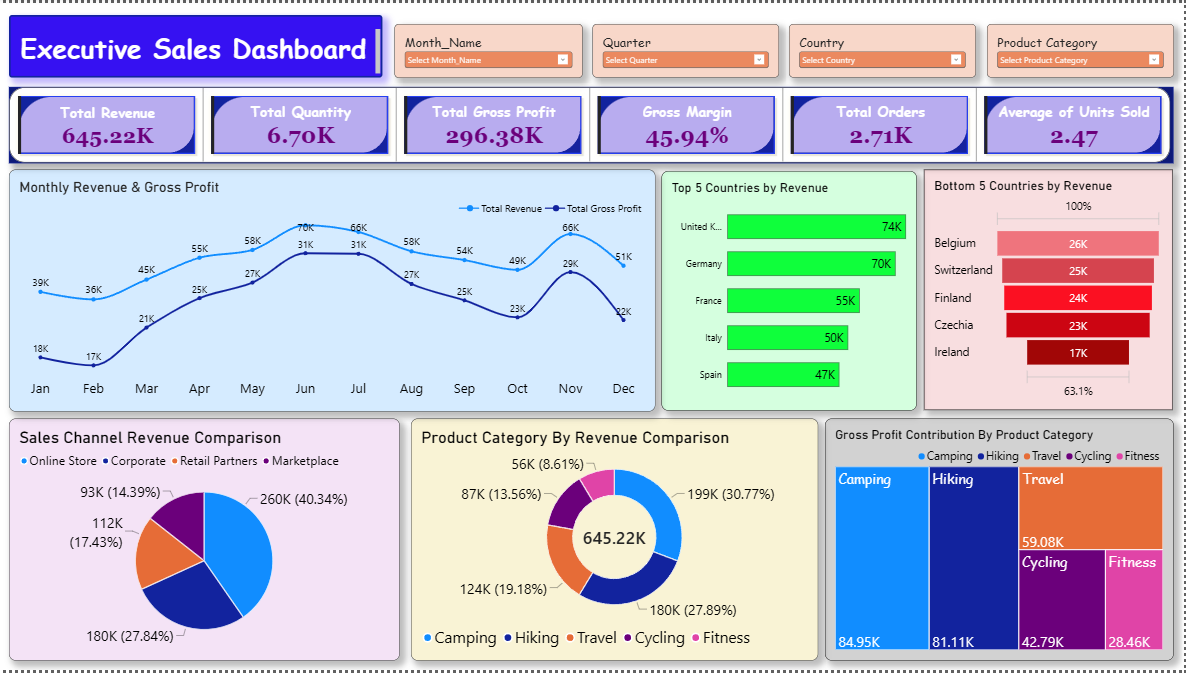

Layout of this report page (visuals, bound fields, positions):
{"tool":"powerbi","page":{"name":"Page 1","canvas":[1920,1080],"ordinal":0},"visuals":[{"type":"cardVisual","fields":{"Data":["All_Measures.Total Revenue","All_Measures.Total Quantity","All_Measures.Total Gross Profit","All_Measures.Gross Margin","All_Measures.Total Orders","Avg(Data.Units Sold)"]},"box":[15,135,1885,123.3],"z":0},{"type":"textbox","box":[14.2,18.9,604.8,101.6],"z":1000},{"type":"lineChart","title":"Monthly Revenue & Gross Profit","fields":{"Category":["Calender_Table.Month_Name"],"Y":["All_Measures.Total Revenue"],"Y2":["All_Measures.Total Gross Profit"]},"box":[15,270,1046.7,391.7],"z":2000},{"type":"listSlicer","fields":{"Values":["Calender_Table.Month_Name"]},"box":[637.9,33.1,304.8,87.4],"z":3000},{"type":"barChart","title":"Top 5 Countries by Revenue","fields":{"Category":["Data.Country"],"Y":["Sum(Data.Revenue)"]},"box":[1071.7,271.7,413.3,388.2],"z":3000},{"type":"listSlicer","fields":{"Values":["Calender_Table.Quarter"]},"box":[958,33.1,302.3,86.8],"z":4000},{"type":"funnel","title":"Bottom 5 Countries by Revenue","fields":{"Category":["Data.Country"],"Y":["Sum(Data.Revenue)"]},"box":[1497.5,270,402.5,389.3],"z":4000},{"type":"listSlicer","fields":{"Values":["Data.Product Category"]},"box":[1596.9,33.1,302.7,86.8],"z":5000},{"type":"treemap","title":"Gross Profit Contribution By Product Category","fields":{"Group":["Data.Product Category"],"Values":["All_Measures.Total Gross Profit"]},"box":[1335.4,671.7,564.6,391.7],"z":6000},{"type":"listSlicer","fields":{"Values":["Data.Country"]},"box":[1277.3,33.1,302.7,86.8],"z":7000},{"type":"pieChart","title":"Sales Channel Revenue Comparison","fields":{"Category":["Data.Sales Channel"],"Y":["Sum(Data.Revenue)"]},"box":[15,671.7,632.6,391.7],"z":9000},{"type":"donutChart","title":"Product Category By Revenue Comparison","fields":{"Category":["Data.Product Category"],"Y":["Sum(Data.Revenue)"]},"box":[666.9,671.7,659.1,391.7],"z":10000}]}

Visuals, with their boxes in screenshot pixels (x1, y1, x2, y2), scaled from the page's 1920x1080 canvas onto the 1186x673 screenshot:
cardVisual - All_Measures.Total Revenue x All_Measures.Total Quantity: select_region(9, 84, 1174, 161)
textbox: select_region(9, 12, 382, 75)
"Monthly Revenue & Gross Profit" lineChart: select_region(9, 168, 656, 412)
listSlicer - Calender_Table.Month_Name: select_region(394, 21, 582, 75)
"Top 5 Countries by Revenue" barChart: select_region(662, 169, 917, 411)
listSlicer - Calender_Table.Quarter: select_region(592, 21, 778, 75)
"Bottom 5 Countries by Revenue" funnel: select_region(925, 168, 1174, 411)
listSlicer - Data.Product Category: select_region(986, 21, 1173, 75)
"Gross Profit Contribution By Product Category" treemap: select_region(825, 419, 1174, 663)
listSlicer - Data.Country: select_region(789, 21, 976, 75)
"Sales Channel Revenue Comparison" pieChart: select_region(9, 419, 400, 663)
"Product Category By Revenue Comparison" donutChart: select_region(412, 419, 819, 663)
